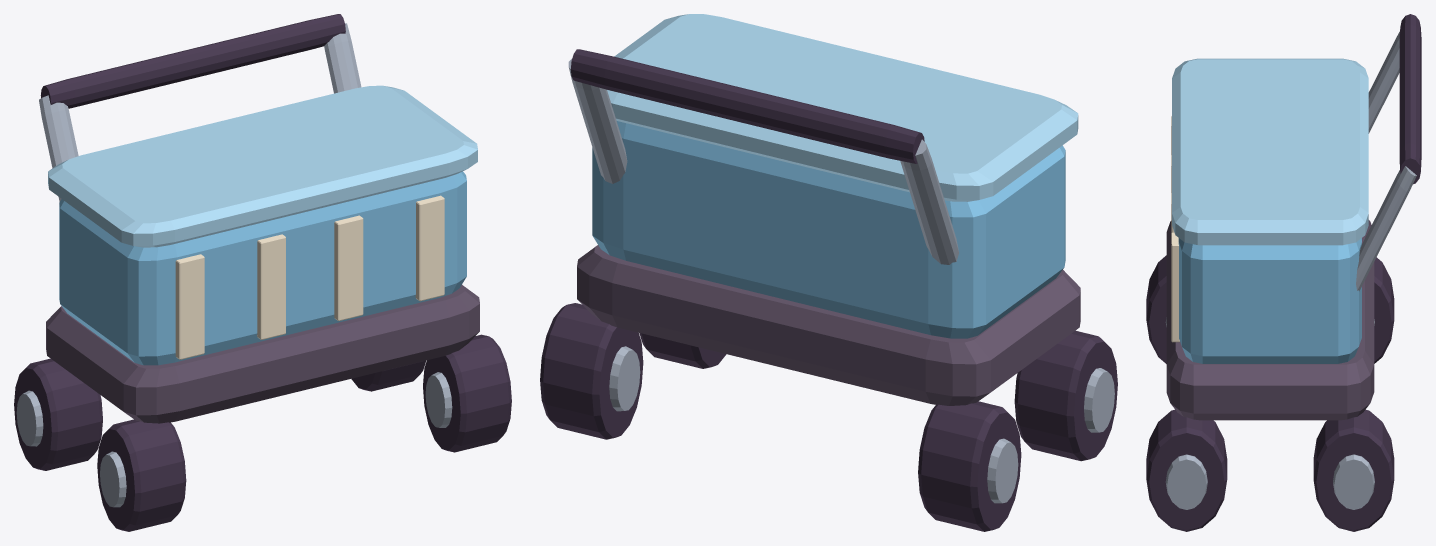
The model's file is sale_cart.glb.
3 renders of one model, left to right at view 1: azimuth 30°, elevation 25°; view 2: azimuth 150°, elevation 25°; view 3: azimuth 270°, elevation 25°, orthographic. The views are drawn at different scales.
Visible parts, largest first — view 1: model, basket, tire, hub; view 2: model, basket, tire, hub; view 3: model, basket, tire, hub.
Boxes of the visible parts, <box> form: model: <box>39,14,479,423</box>; basket: <box>59,171,466,365</box>; tire: <box>14,334,511,531</box>; hub: <box>16,372,452,507</box>; model: <box>568,14,1080,405</box>; basket: <box>592,121,1065,338</box>; tire: <box>540,303,1117,531</box>; hub: <box>609,346,1114,503</box>; model: <box>1166,14,1421,420</box>; basket: <box>1178,238,1361,363</box>; tire: <box>1146,255,1394,531</box>; hub: <box>1165,317,1374,509</box>.
Bounding box in the file's own units: 1.15 × 1 × 0.7.
